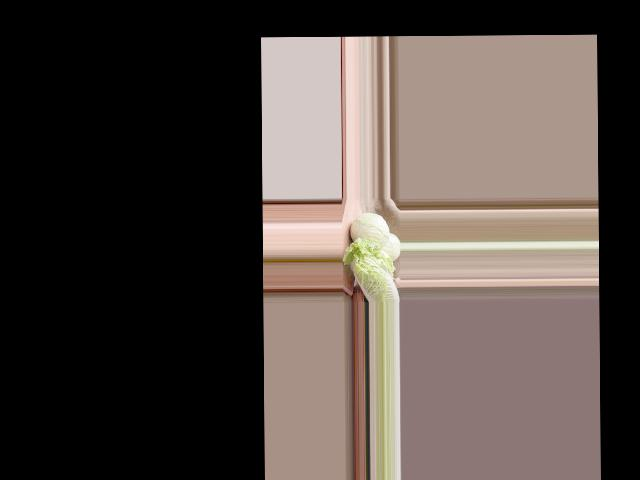lettuce: (341, 237, 397, 301)
